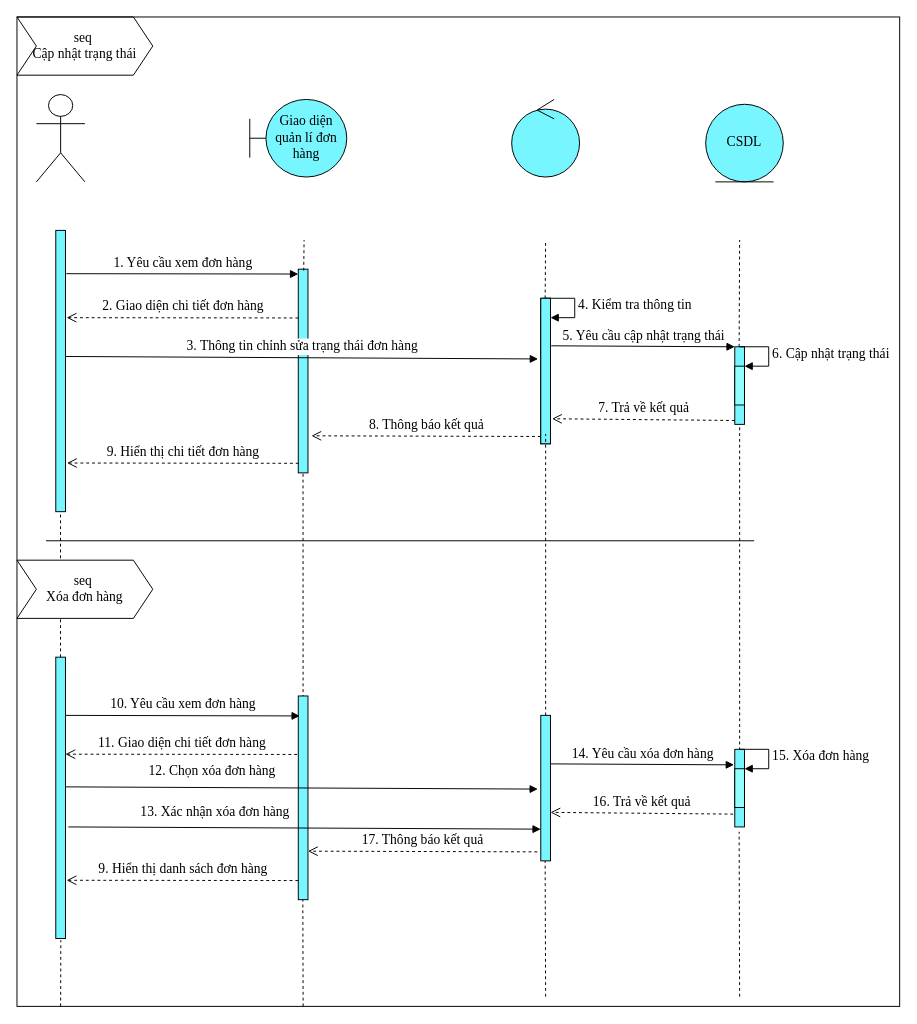
The diagram is 917 pixels wide and 1024 high, and some of its shapes have lost their labels. The centre of each missing label's shape, as x and y in pixels:
"Control quản lí đơn hàng" goes at point 545,137.
"Quản trị viên" goes at point 60,138.
